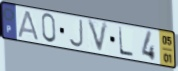0: (40, 12, 58, 45)
4: (140, 30, 157, 64)
A: (17, 10, 40, 43)
J: (68, 18, 85, 49)
L: (117, 26, 135, 59)
V: (86, 18, 110, 55)
